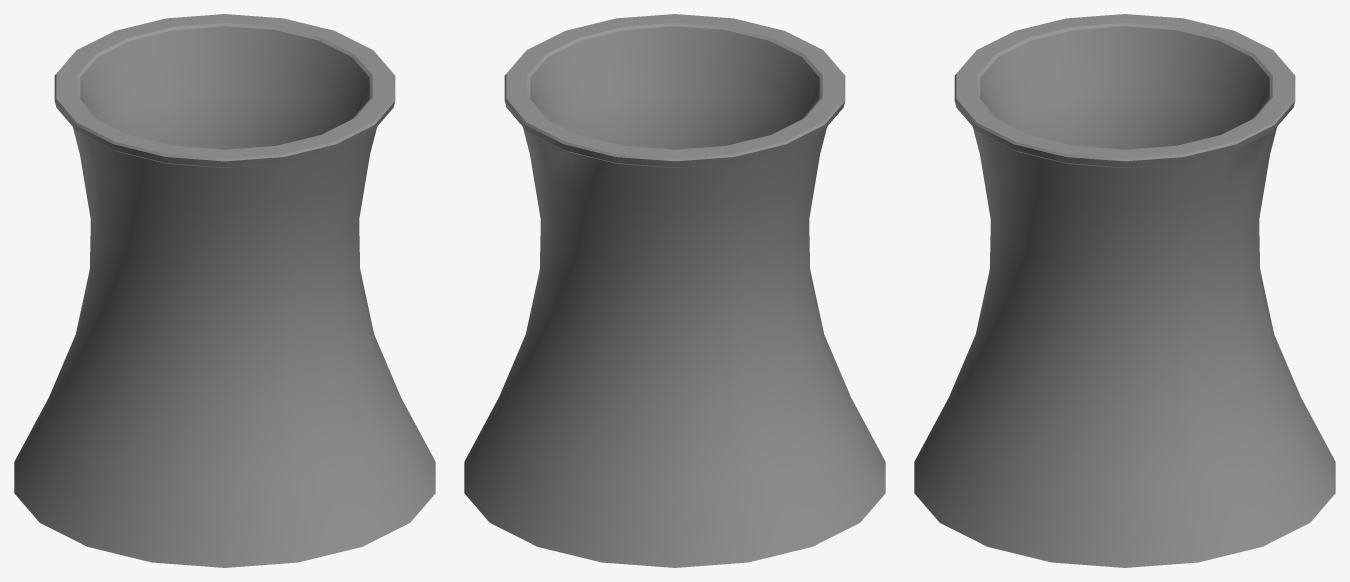
Rendered from Central.fbx.
The picture shows the model from 3 angles, left to right: view 1: azimuth 30°, elevation 25°; view 2: azimuth 150°, elevation 25°; view 3: azimuth 270°, elevation 25°; orthographic projection.
Visible parts, largest first — view 1: Cylinder001; view 2: Cylinder001; view 3: Cylinder001.
Boxes of the visible parts, <box> form: Cylinder001: <box>14,14,435,567</box>; Cylinder001: <box>464,14,885,567</box>; Cylinder001: <box>914,14,1335,567</box>.
Size of the model in its own units: 1744 by 1760 by 1717.
